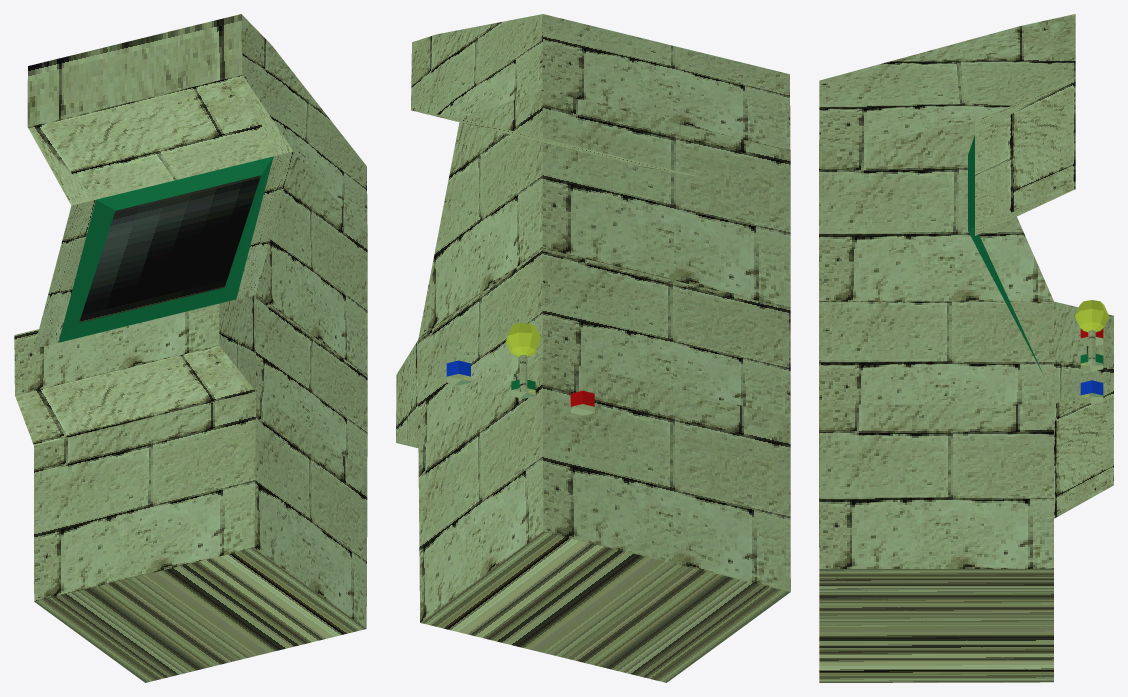
Rendered from ps2_save-icons_midwayarcadetreasures.glb.
The picture shows the model from 3 angles, left to right: view 1: azimuth 30°, elevation 25°; view 2: azimuth 150°, elevation 25°; view 3: azimuth 270°, elevation 25°; orthographic projection. The views are drawn at different scales.
Parts seen in each view (by area): view 1: static.ico; view 2: static.ico; view 3: static.ico.
Part boxes in pixels (left/top/right/bottom): static.ico: left=14, top=14, right=367, bottom=682; static.ico: left=396, top=14, right=790, bottom=682; static.ico: left=819, top=14, right=1113, bottom=682.
Size of the model in its own units: 1.95 by 4.42 by 2.12.
1 material, 1 textured.
